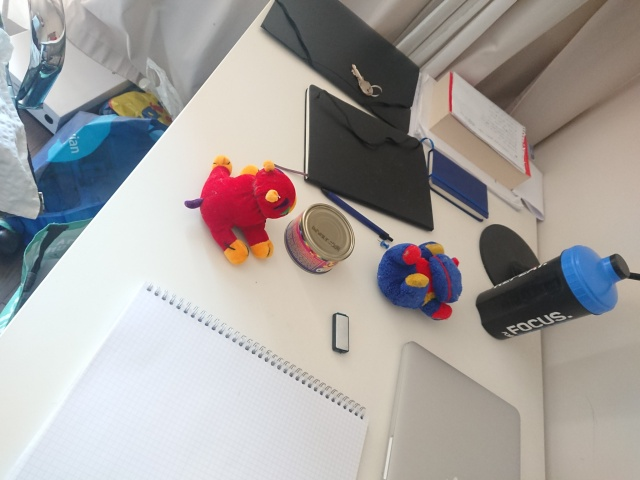Giana Tuna Salad Mexico 185g: (283, 201, 358, 277)
